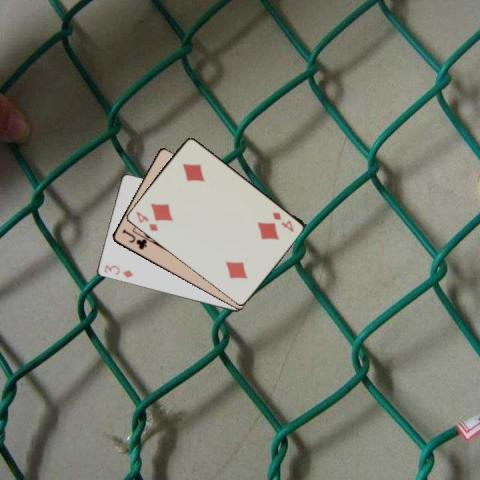3d: (100, 262, 134, 279)
4d: (133, 208, 159, 233), (269, 210, 295, 234)
Jc: (119, 226, 148, 250)
